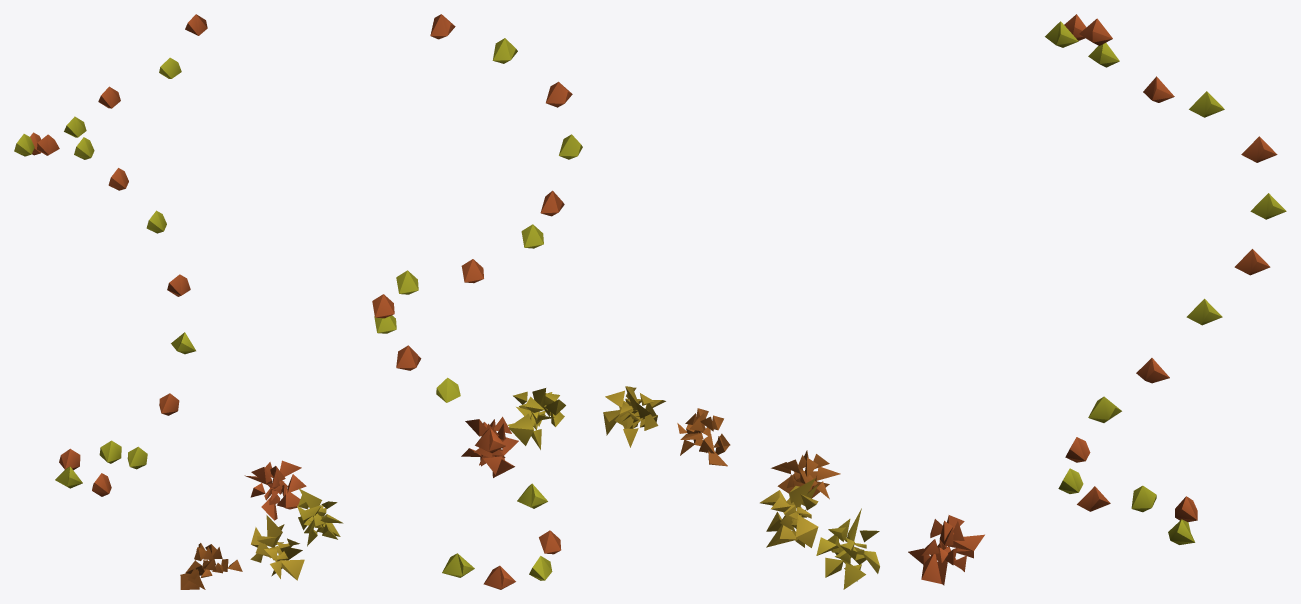
File: dragonstone_bolt_proc.glb
3 renders of one model, left to right at view 1: azimuth 30°, elevation 25°; view 2: azimuth 150°, elevation 25°; view 3: azimuth 270°, elevation 25°, orthographic. The views are drawn at different scales.
Parts seen in each view (by area): view 1: Dragonstone bolt proc spotanim; view 2: Dragonstone bolt proc spotanim; view 3: Dragonstone bolt proc spotanim.
Boxes of the visible parts, left/top/right/bottom form: Dragonstone bolt proc spotanim: left=14, top=14, right=343, bottom=589; Dragonstone bolt proc spotanim: left=372, top=14, right=730, bottom=589; Dragonstone bolt proc spotanim: left=760, top=14, right=1286, bottom=589.
Bounding box in the file's own units: 109 × 269 × 231.
